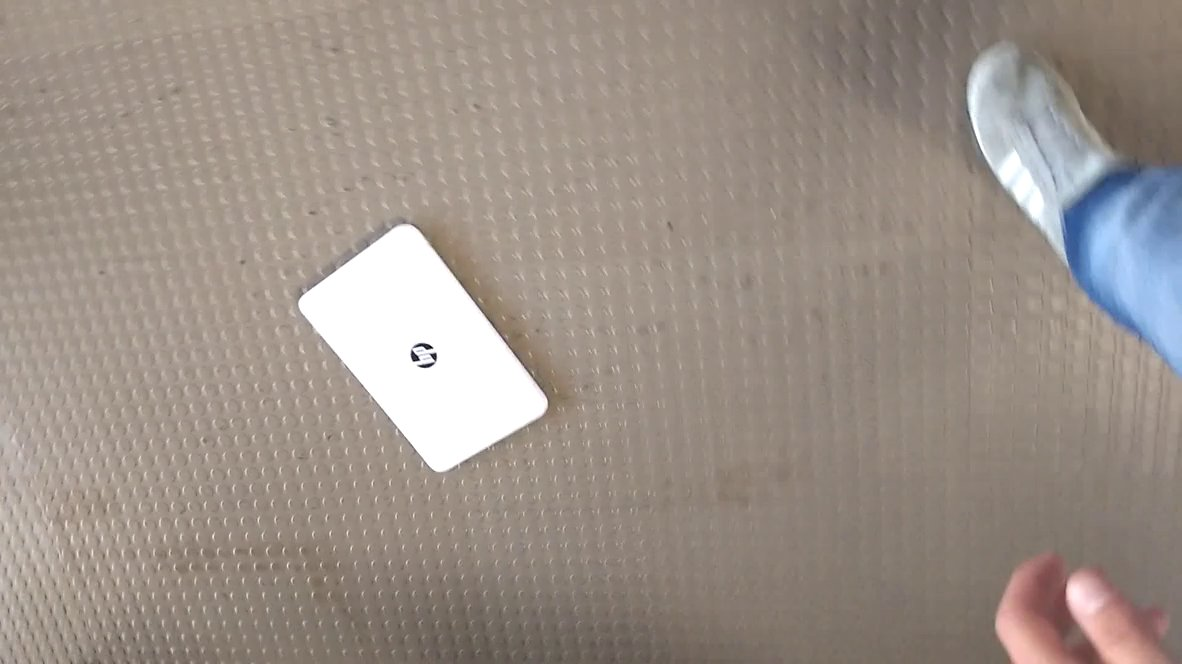laptop: (290, 219, 557, 481)
